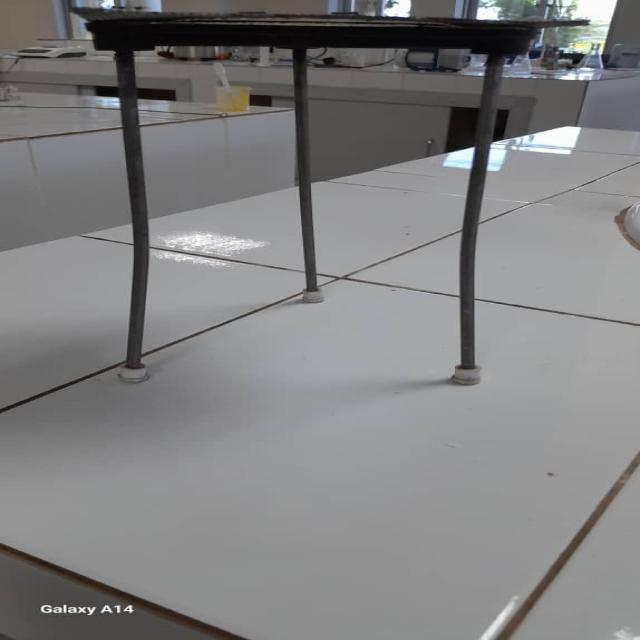Stand: (65, 4, 578, 386)
